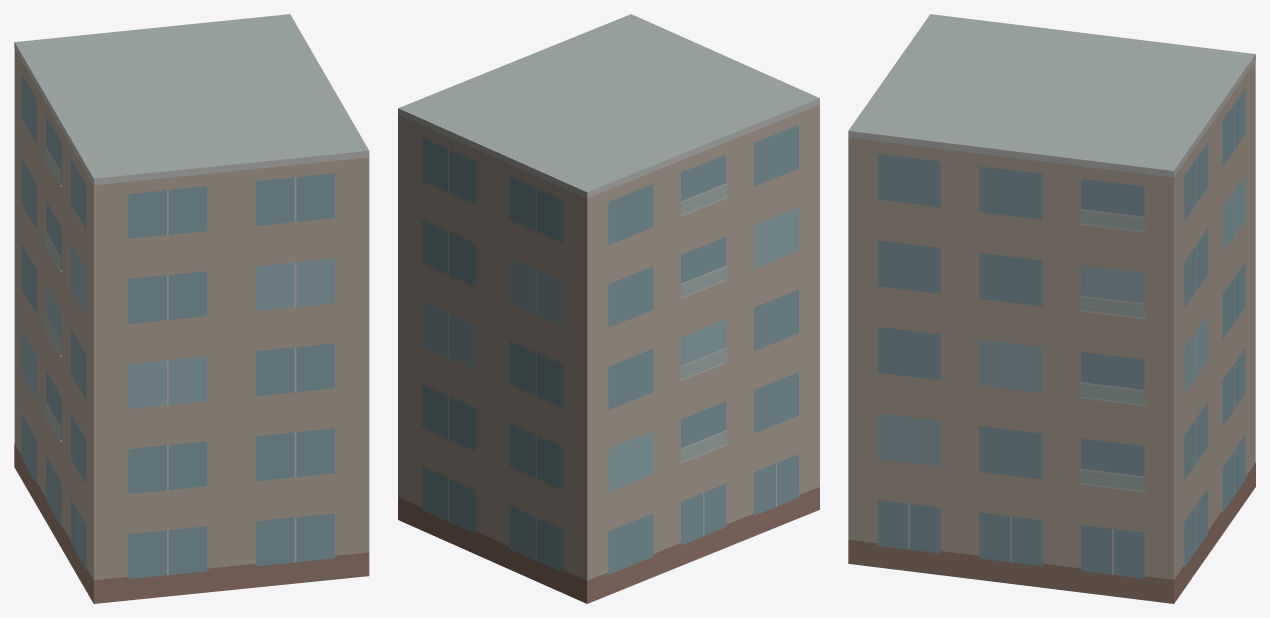
The model's file is survey-upis-33039520.glb.
3 renders of one model, left to right at view 1: azimuth 30°, elevation 25°; view 2: azimuth 150°, elevation 25°; view 3: azimuth 270°, elevation 25°, orthographic. The views are drawn at different scales.
Visible parts, largest first — view 1: survey-upis-33039520.tmp; view 2: survey-upis-33039520.tmp; view 3: survey-upis-33039520.tmp.
Part boxes in pixels (x1,y1,x2,y2): survey-upis-33039520.tmp: [14, 14, 369, 603]; survey-upis-33039520.tmp: [398, 14, 819, 603]; survey-upis-33039520.tmp: [848, 14, 1255, 603].
Size of the model in its own units: 12.38 by 15.9 by 13.58.
